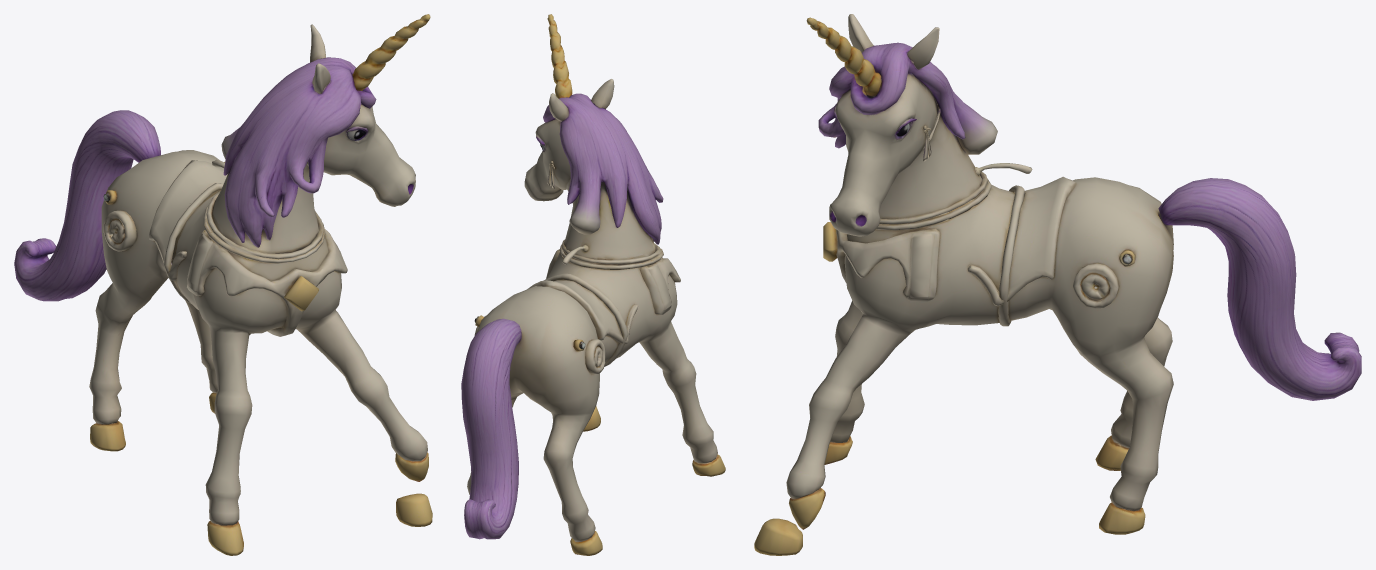
The model's file is r33-unicorn.glb.
3 views of the same model, side by side, from view 1: azimuth 30°, elevation 25°; view 2: azimuth 150°, elevation 25°; view 3: azimuth 270°, elevation 25° (orthographic). The views are drawn at different scales.
Visible parts, largest first — view 1: tripo_node_5390e9dc-7900-4b58-bb97-82b81f4f7791; view 2: tripo_node_5390e9dc-7900-4b58-bb97-82b81f4f7791; view 3: tripo_node_5390e9dc-7900-4b58-bb97-82b81f4f7791.
Boxes of the visible parts, <box> form: tripo_node_5390e9dc-7900-4b58-bb97-82b81f4f7791: <box>14,14,432,555</box>; tripo_node_5390e9dc-7900-4b58-bb97-82b81f4f7791: <box>461,14,725,555</box>; tripo_node_5390e9dc-7900-4b58-bb97-82b81f4f7791: <box>754,14,1361,555</box>.
Bounding box in the file's own units: 0.459 × 0.9941 × 0.998.
Materials: 1 (1 with a texture image).
